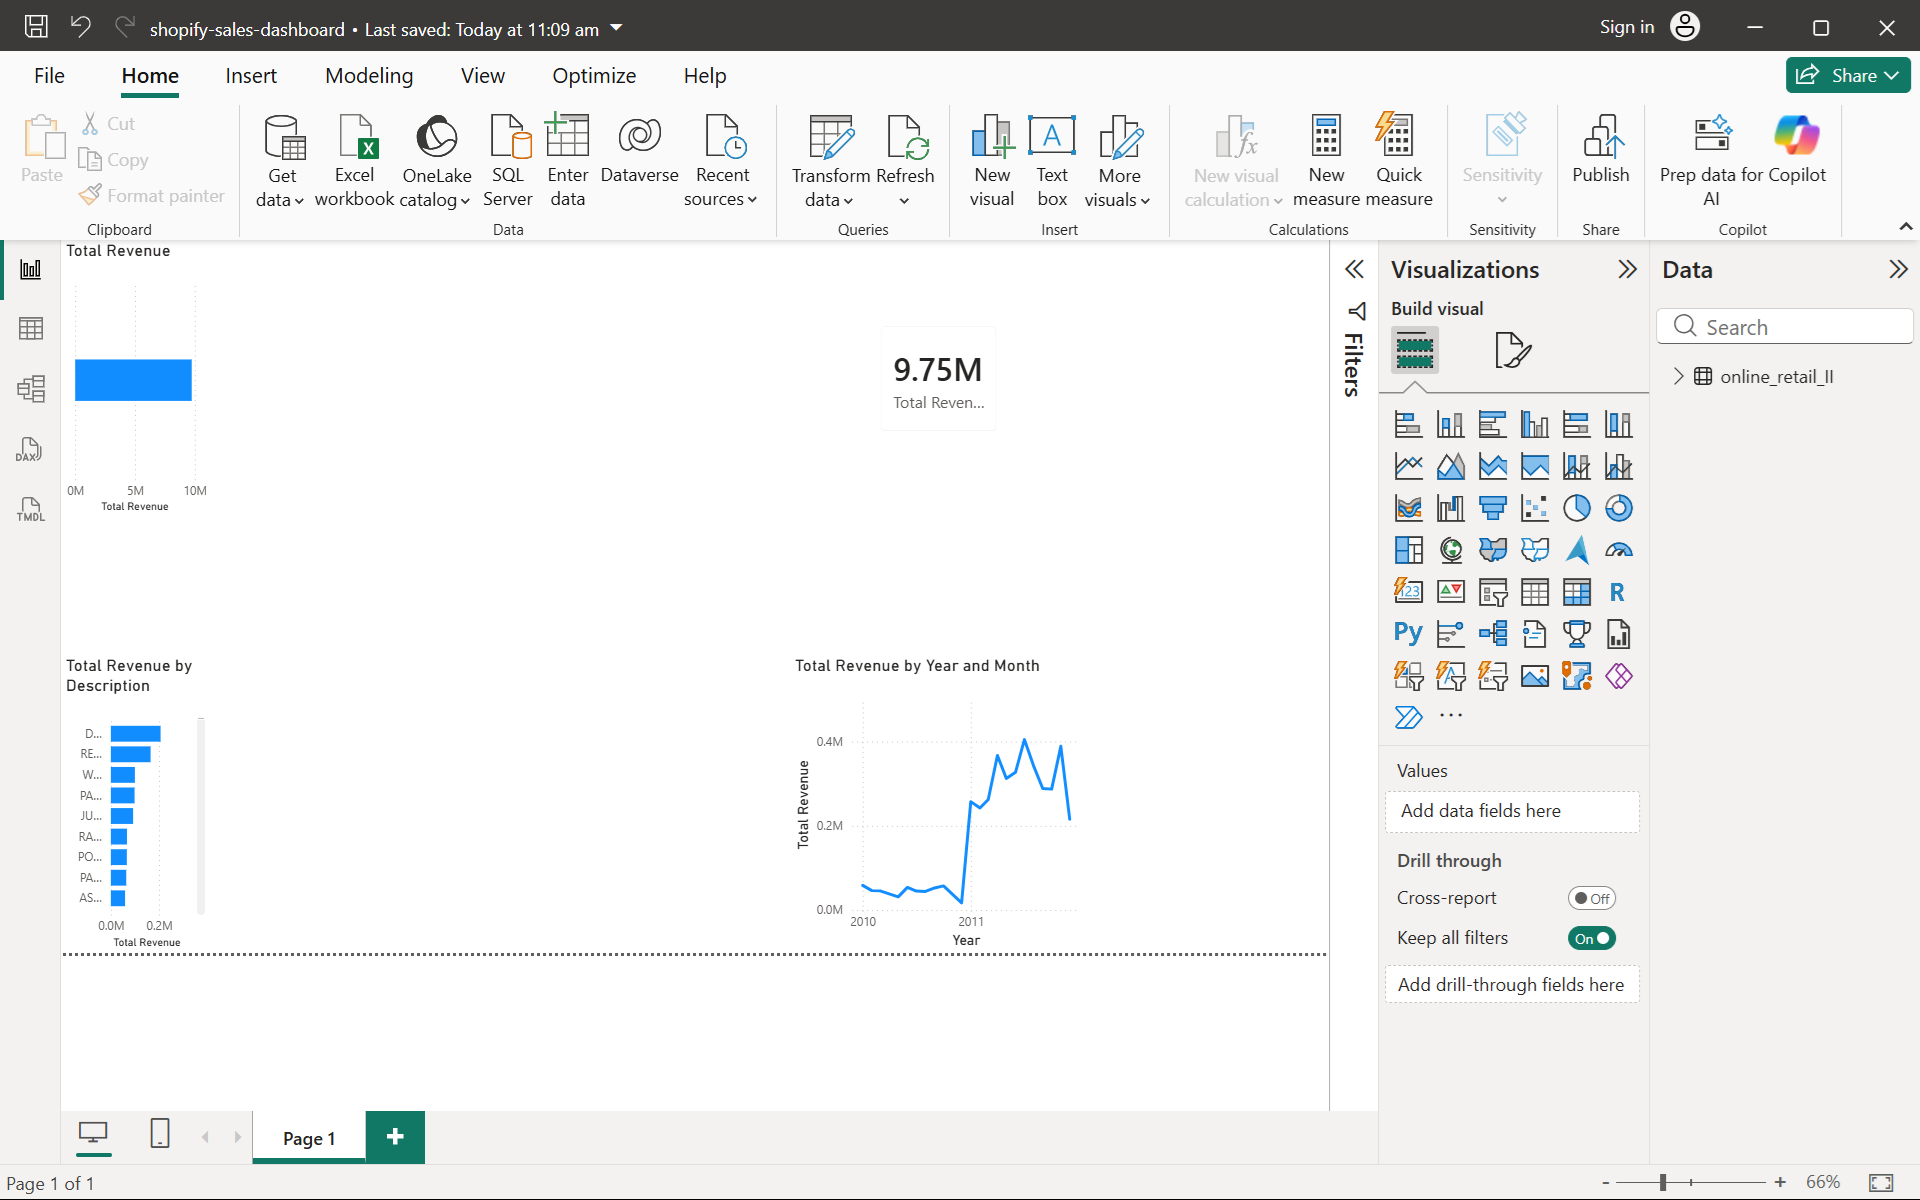

This screenshot's page, from the dashboard's own definition file:
{"tool":"powerbi","page":{"name":"Page 1","canvas":[1280,720],"ordinal":0},"visuals":[{"type":"cardVisual","fields":{"Data":["online_retail_II.Total Revenue"]},"box":[810,70,151.7,140],"z":0},{"type":"lineChart","fields":{"Category":["online_retail_II.InvoiceDate.Variation.Date Hierarchy.Year","online_retail_II.InvoiceDate.Variation.Date Hierarchy.Month"],"Y":["online_retail_II.Total Revenue"]},"box":[736,420,300,300],"z":1000},{"type":"clusteredBarChart","fields":{"Y":["online_retail_II.Total Revenue"]},"box":[0,0,151.7,280],"z":2000},{"type":"clusteredBarChart","fields":{"Category":["online_retail_II.Description"],"Y":["online_retail_II.Total Revenue"]},"box":[0,420,150,300],"z":3000}]}

Visuals, with their boxes on the page's 1280x720 design canvas (x1, y1, x2, y2). These are canvas units, not pixel positions in the 1920x1200 screenshot, which may show the page scaled, cropped or inside an application window:
cardVisual - online_retail_II.Total Revenue: select_region(810, 70, 962, 210)
lineChart - online_retail_II.InvoiceDate.Variation.Date Hierarchy.Year x online_retail_II.InvoiceDate.Variation.Date Hierarchy.Month: select_region(736, 420, 1036, 720)
clusteredBarChart - online_retail_II.Total Revenue: select_region(0, 0, 152, 280)
clusteredBarChart - online_retail_II.Description x online_retail_II.Total Revenue: select_region(0, 420, 150, 720)
